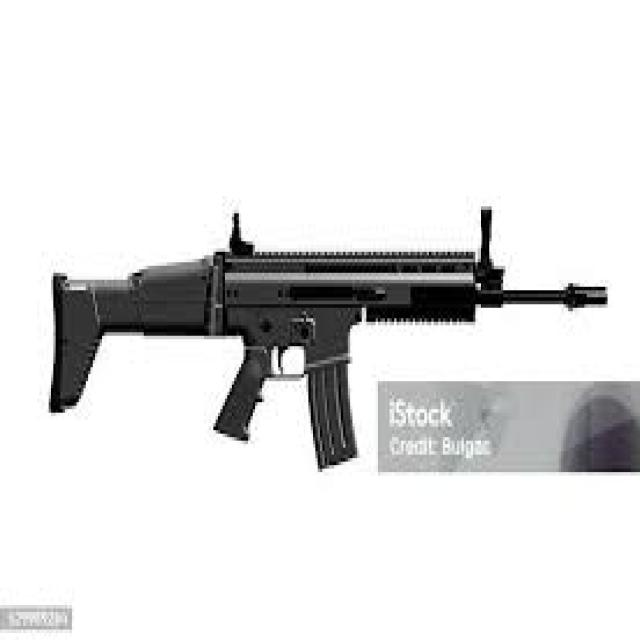Gun: (43, 189, 610, 492)
